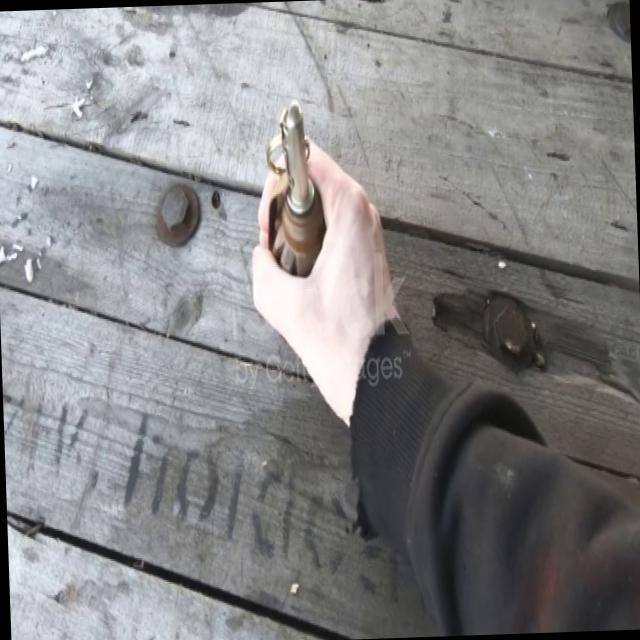grenade: (263, 82, 327, 276)
